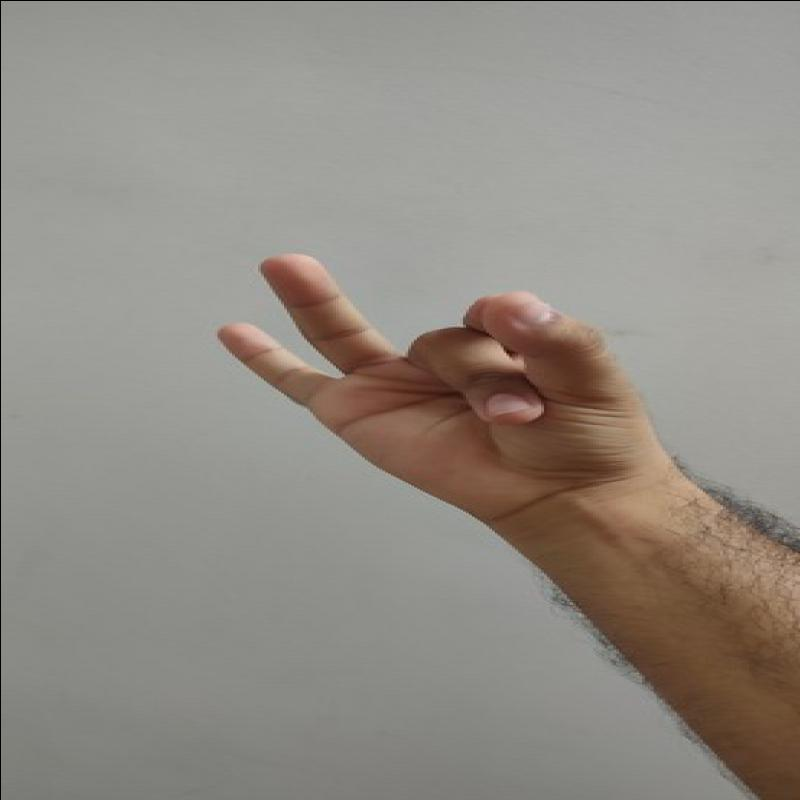Katakam: (205, 217, 678, 530)
